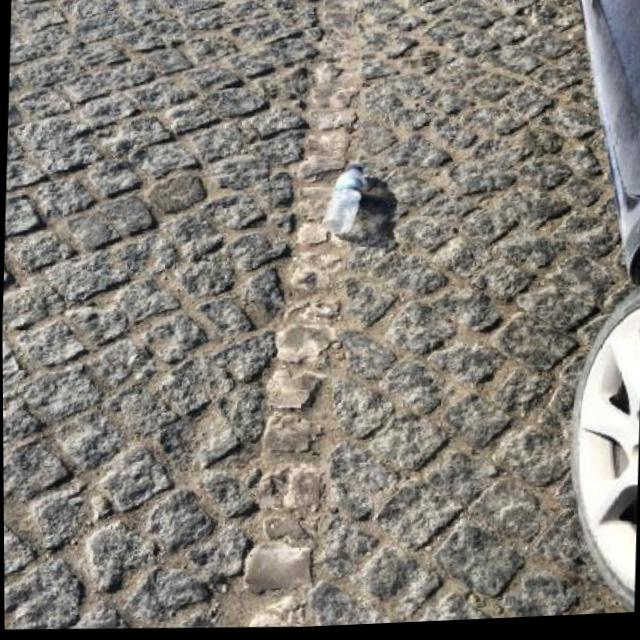plastic: (320, 162, 365, 234)
